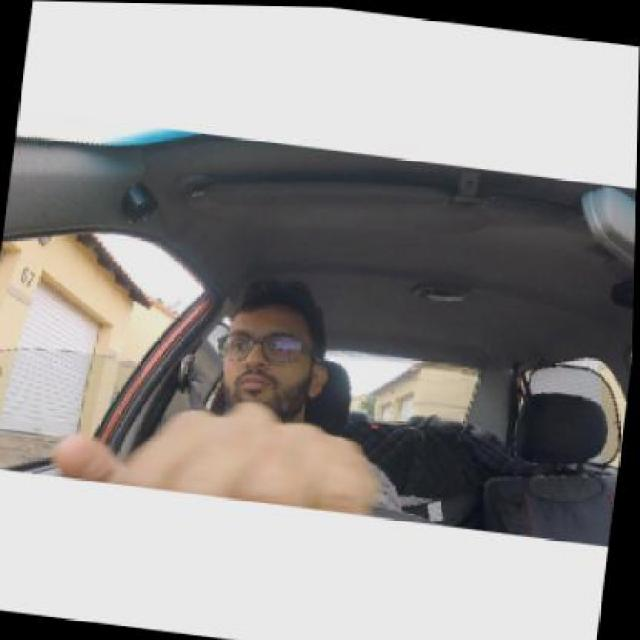person: (203, 271, 336, 428)
